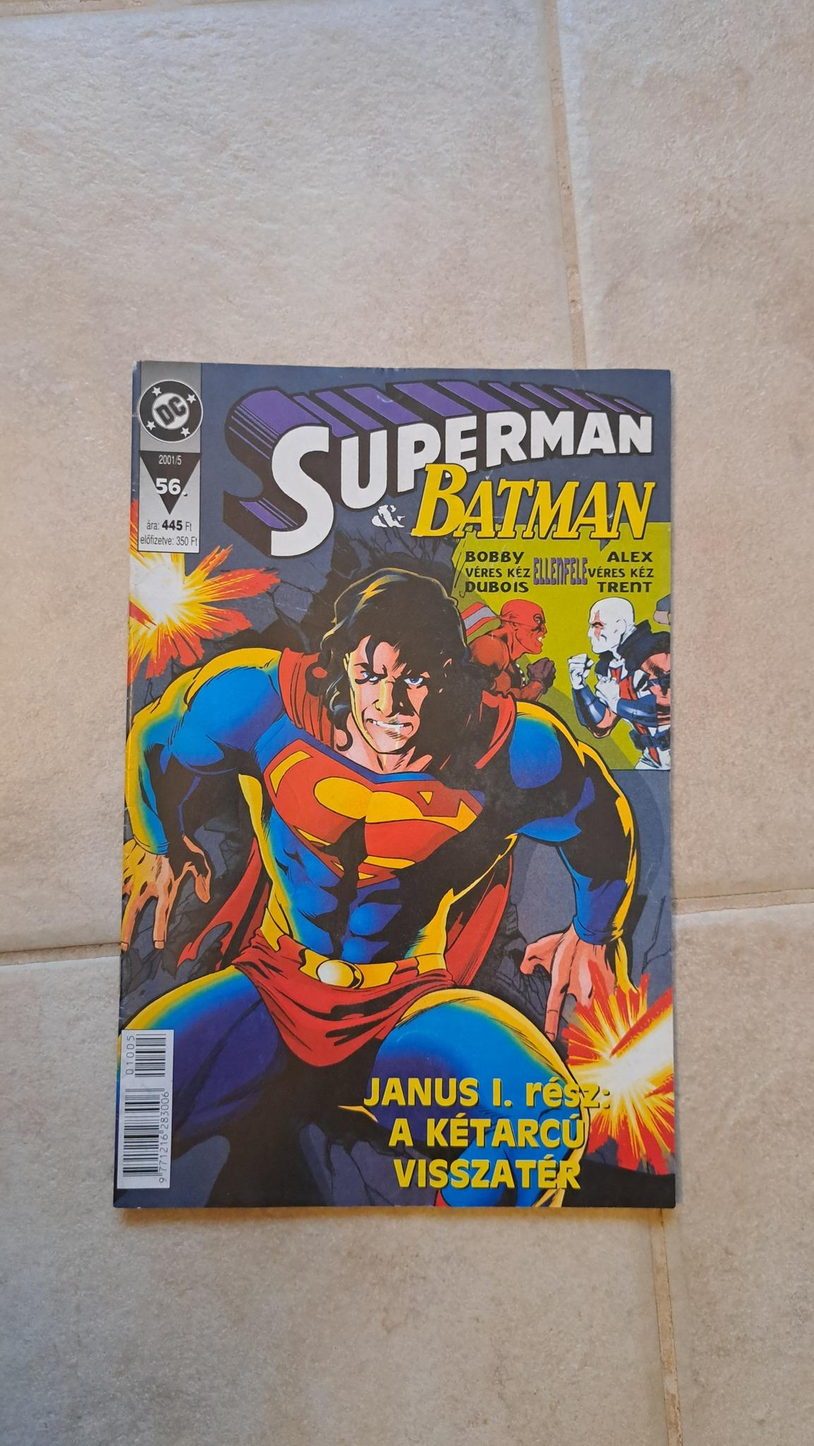comic: (115, 362, 675, 1207)
